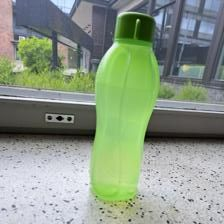bottle: (88, 10, 165, 205)
